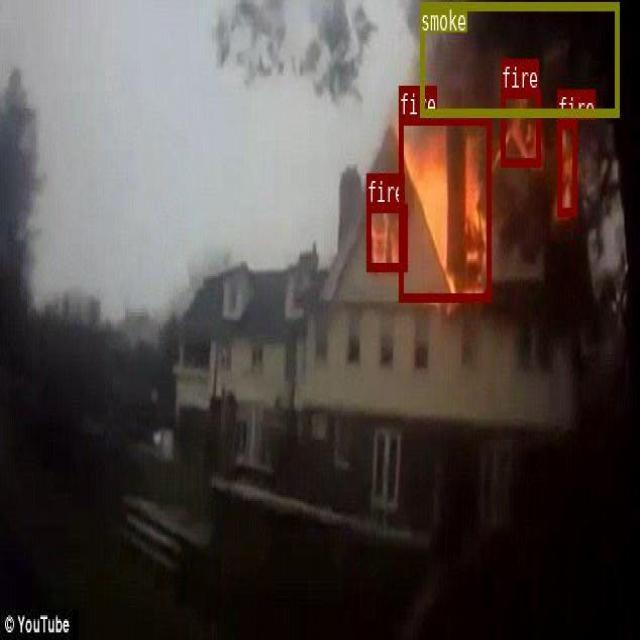fire: (399, 115, 491, 301), (500, 89, 539, 166), (366, 202, 407, 270), (557, 119, 575, 214)
smoke: (419, 0, 618, 116)
